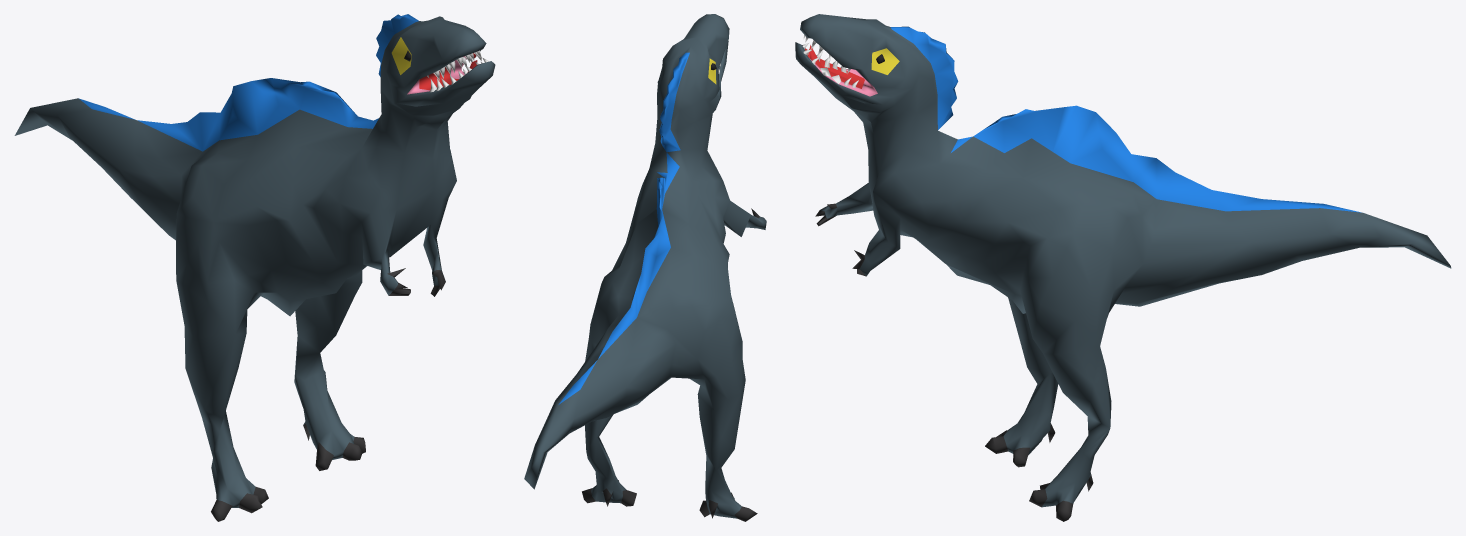
File: dinosaur_001.gltf
The picture shows the model from 3 angles, left to right: view 1: azimuth 30°, elevation 25°; view 2: azimuth 150°, elevation 25°; view 3: azimuth 270°, elevation 25°; orthographic projection. The views are drawn at different scales.
Parts seen in each view (by area): view 1: dinosaur_001; view 2: dinosaur_001; view 3: dinosaur_001.
Boxes of the visible parts, box(x1,y1,x2,y2) form: dinosaur_001: box(14, 14, 495, 521); dinosaur_001: box(524, 14, 766, 521); dinosaur_001: box(795, 14, 1451, 521).
Bounding box in the file's own units: 1.9 × 5.16 × 6.15.
1 material, 1 textured.
